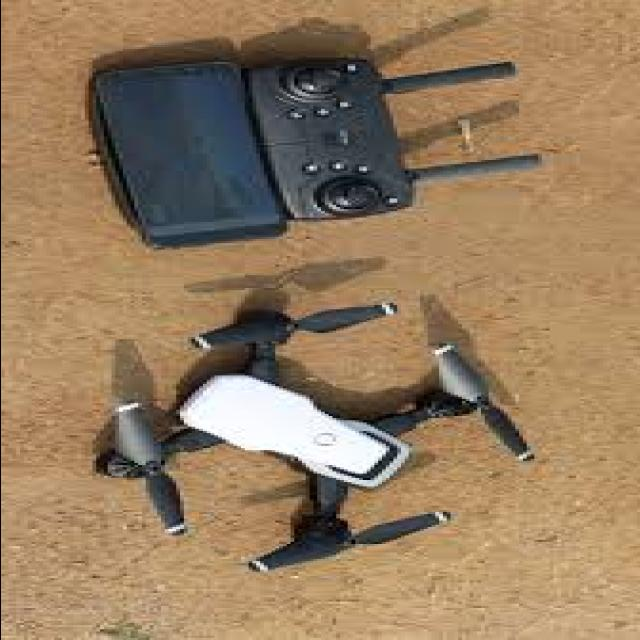drone: (89, 282, 543, 597)
